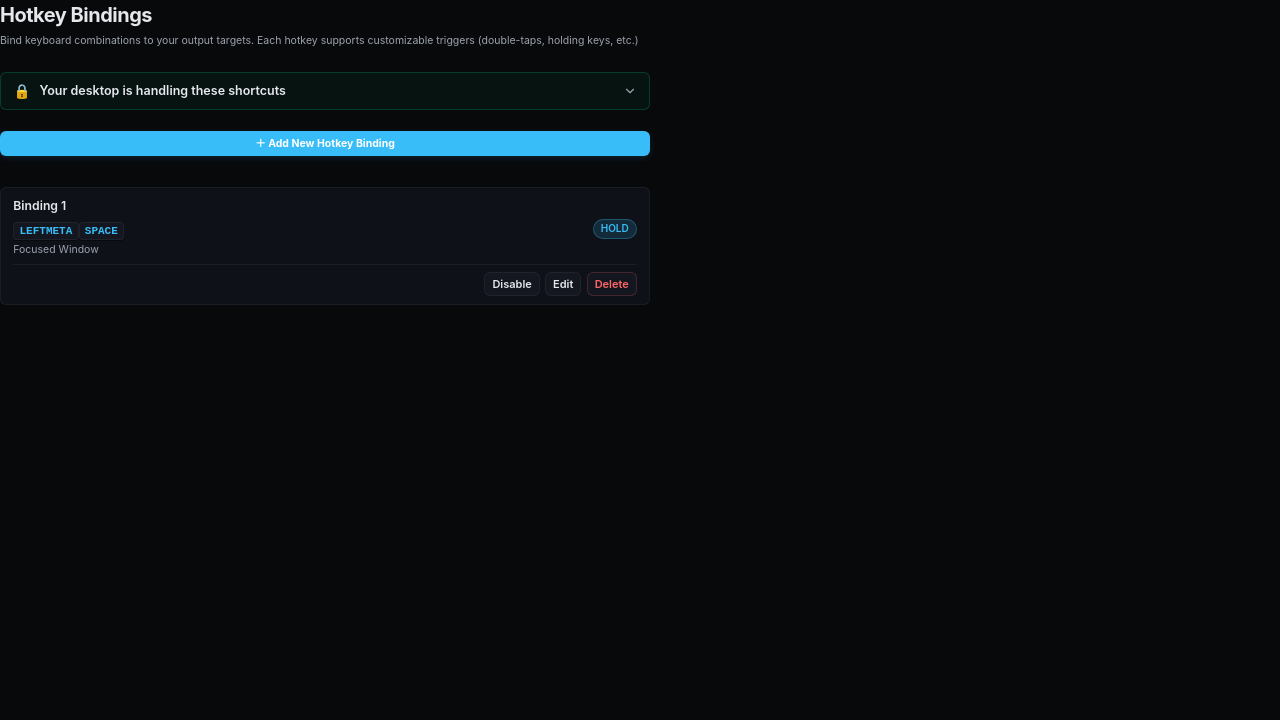
it: HotkeysTab.svelte Conflict Detection and Nested Modal › opens nested Target modal, creates a new target, and auto-selects it
Click Edit button to open Hotkey Editor modal
Click the button "Edit" at [563, 284], box 545,272 -> 581,296
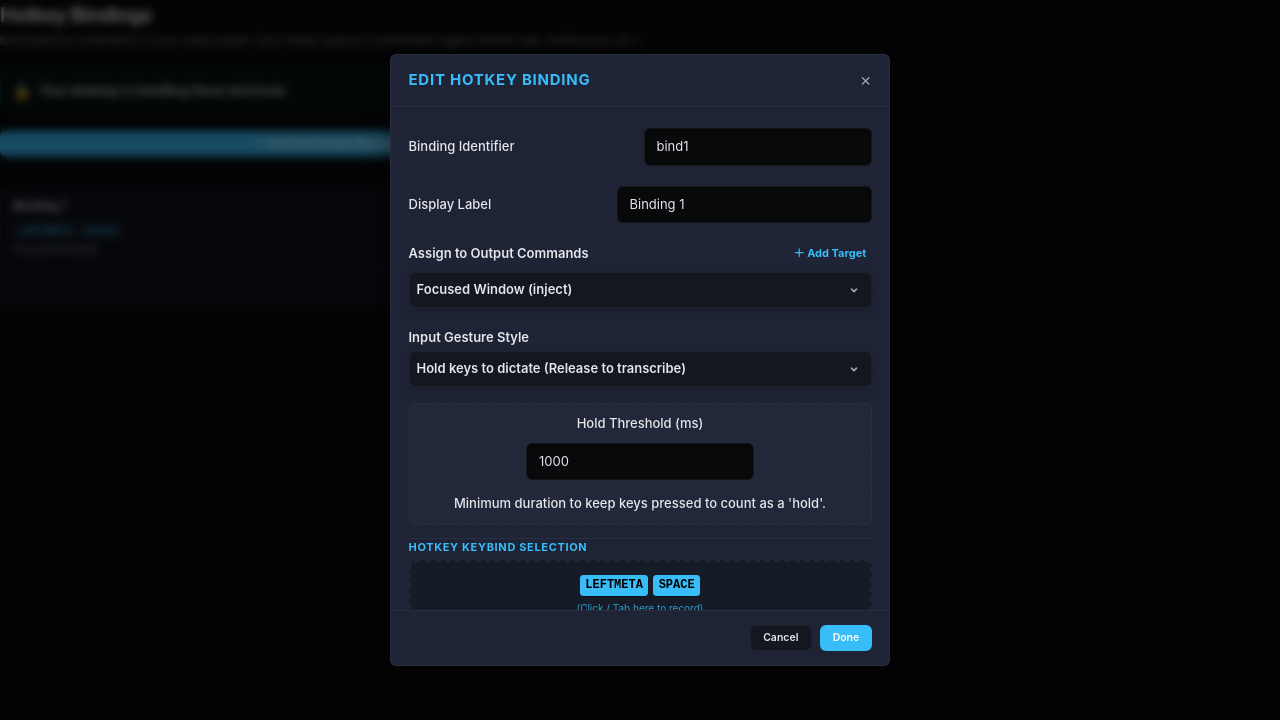
Check: the button with class "custom-select-trigger" showing "Focused Window (inject)" is shown
Click trigger to open dropdown list
Click the button with class "custom-select-trigger" showing "Focused Window (inject)" at [494, 289], box 408,272 -> 872,308
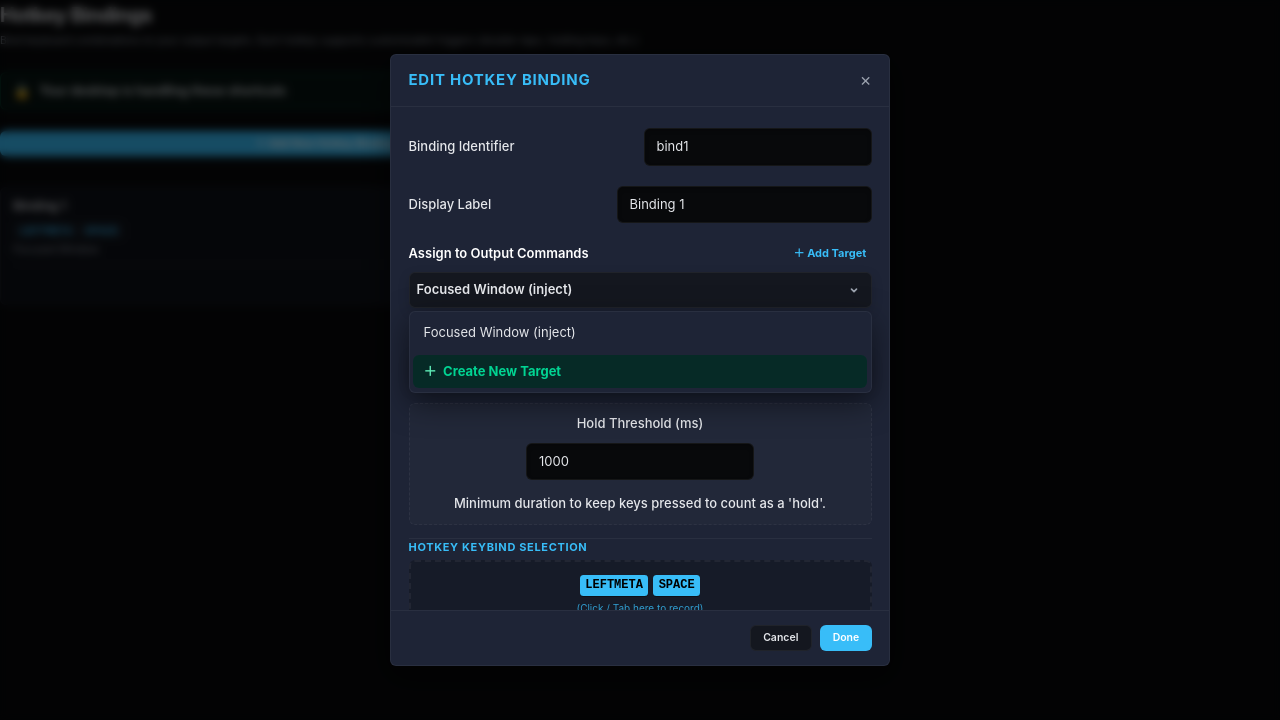
Click "-- Create New Target --" option button
Click the button "＋ Create New Target" at [501, 370], box 413,354 -> 867,388
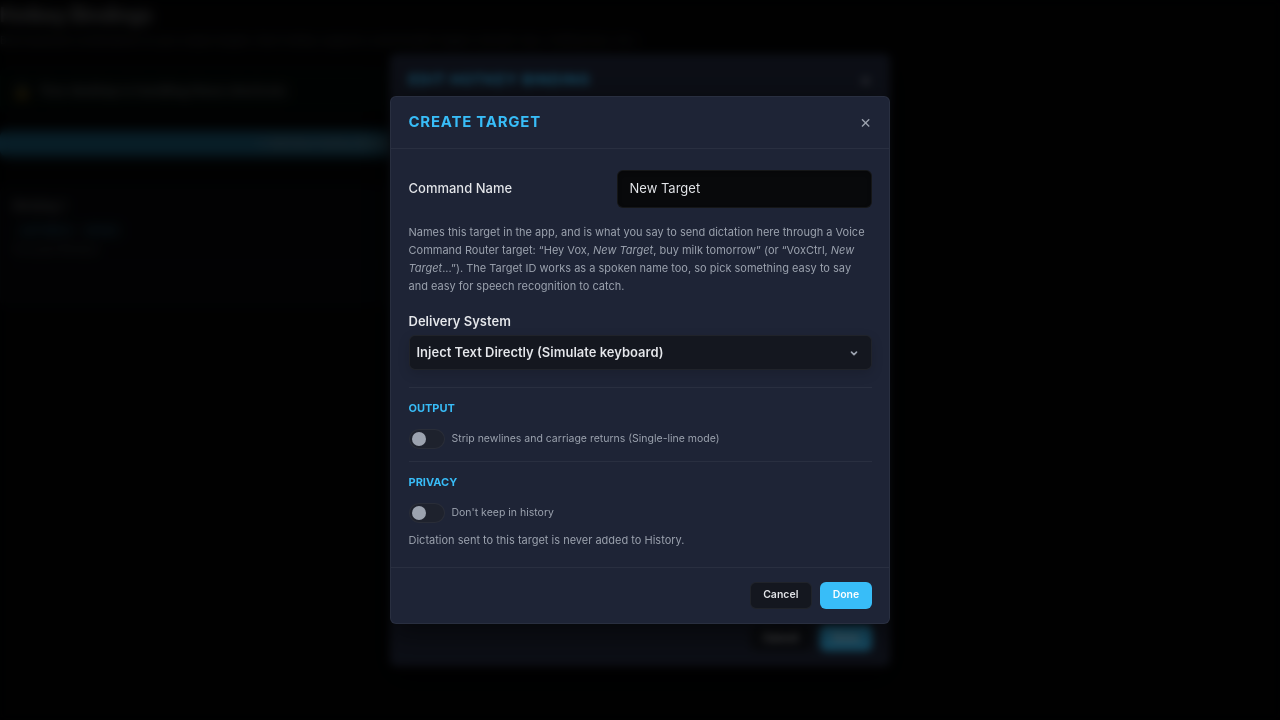
Check: the heading "Create Target" is shown, box 408,111 -> 541,134
Set the target's command name
Replace the text in the field with placeholder "e.g. Obsidian Notes" with "My Nested Target" at [744, 189], box 616,170 -> 872,208
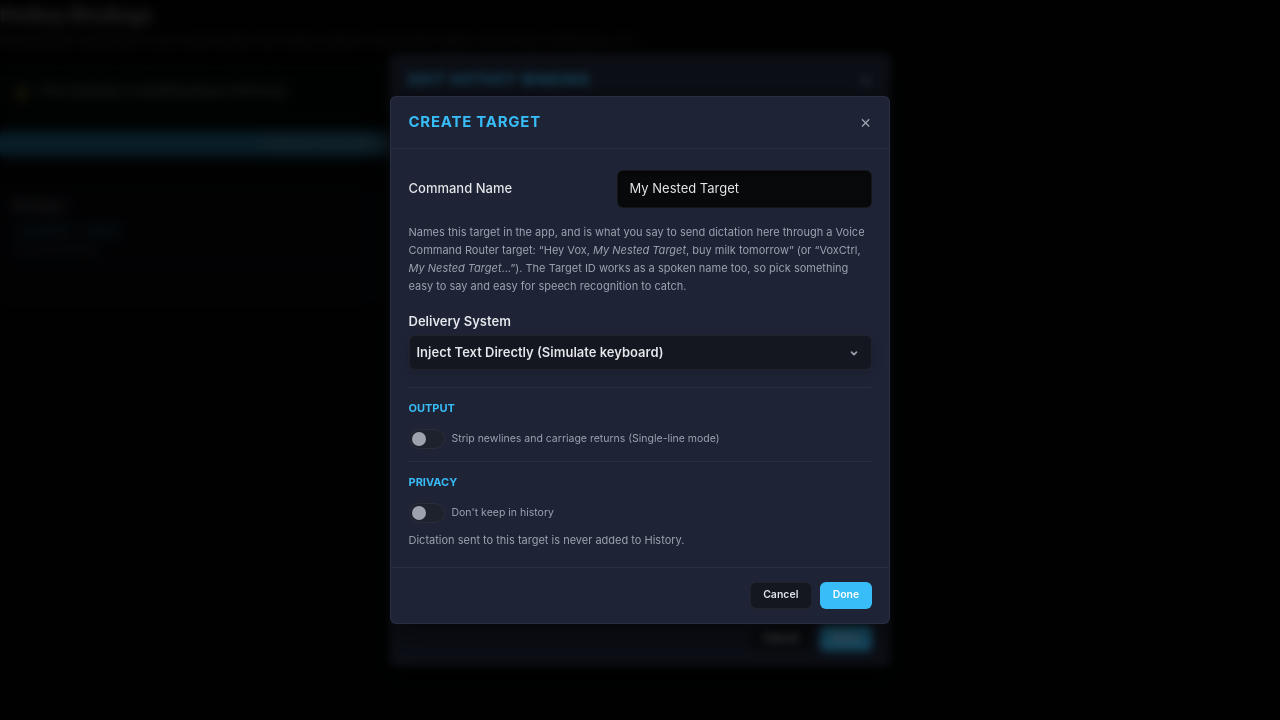
Click Done to save target
Click the button "Done" at [846, 595], box 820,582 -> 872,609
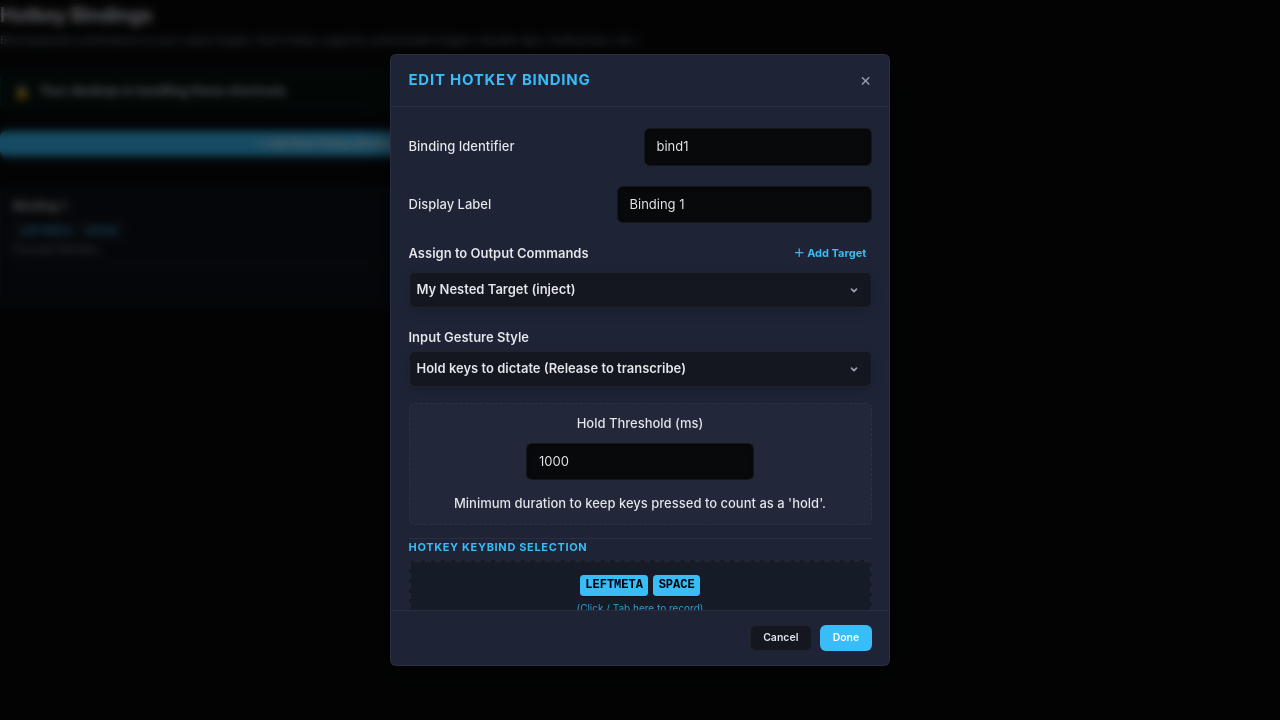
Check: the heading "Create Target" is gone
Check: the button with class "custom-select-trigger" reads "My Nested Target (inject)", box 408,272 -> 872,308
